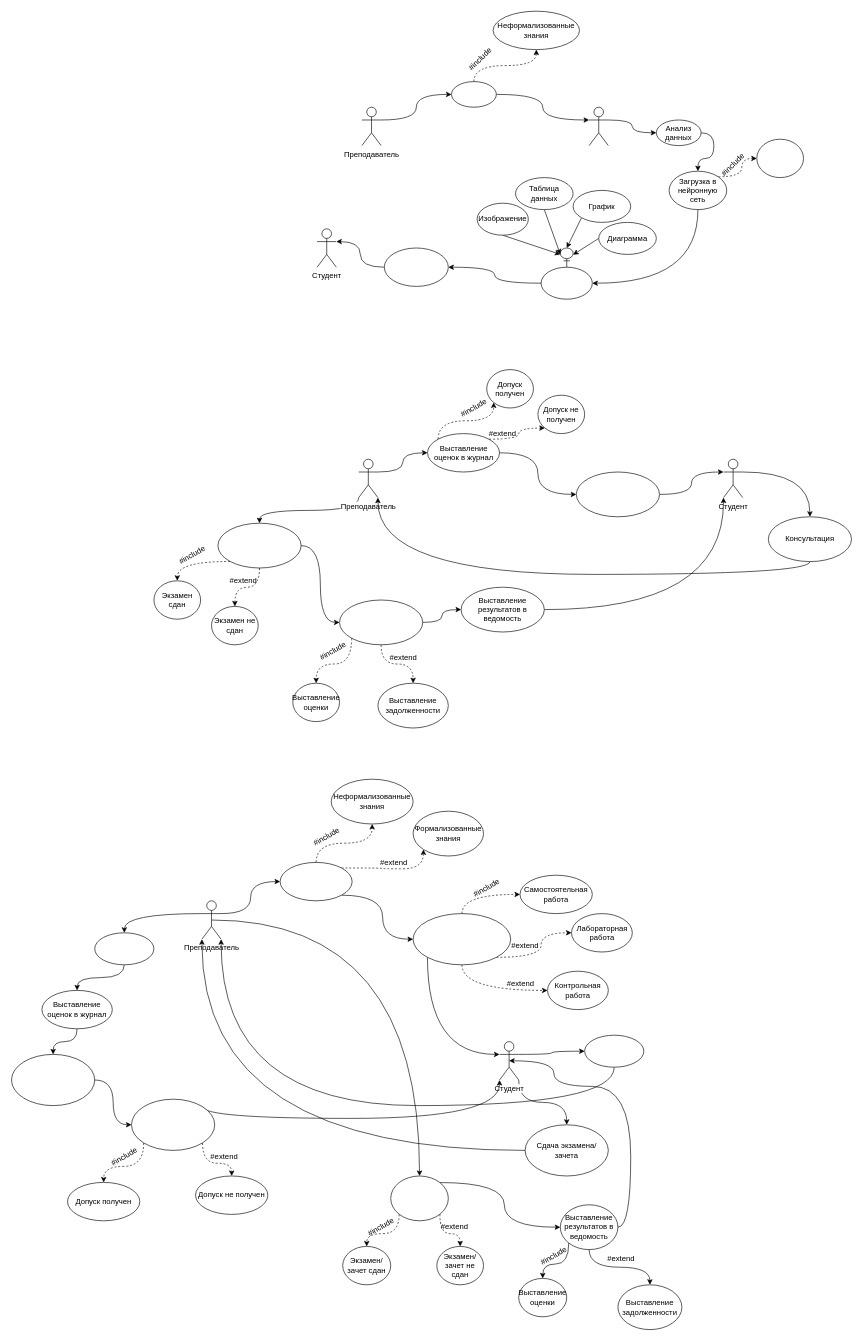
The diagram is 863 pixels wide and 1341 high, and some of its shapes have lost their labels. The shapes that lost their labels are listed below. From the top down, each one's centre as x and y in pixels, then its label:
At point 473,94: "Прочтение лекции".
At point 598,126: "ИС".
At point 780,158: "Массив данных".
At point 416,266: "Формализованные данные".
At point 566,283: "Визуализация данных".
At point 618,494: "Назначение консультации перед экзаменом".
At point 259,545: "Проведение экзамена".
At point 381,622: "Выставление результатов экзамена".
At point 315,881: "Чтение лекции".
At point 124,948: "Проверка задания".
At point 461,939: "Выдача студентам задания для самостоятельного выполнения".
At point 614,1051: "Выполнение задания".
At point 53,1080: "Проведение консультации перед экзаменом/зачетом".
At point 173,1124: "Объявление результатов за семестр".
At point 419,1198: "Выставление результатов".
